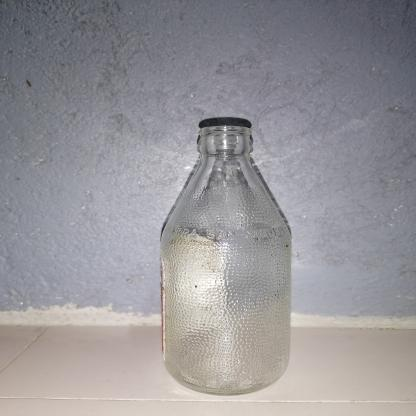Can: (154, 120, 296, 397)
